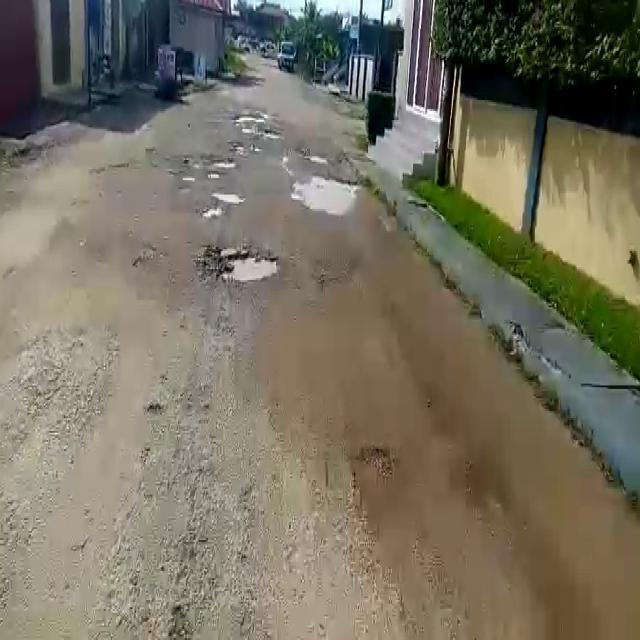pothole: (205, 244, 282, 285), (354, 443, 395, 490), (207, 159, 237, 172)
